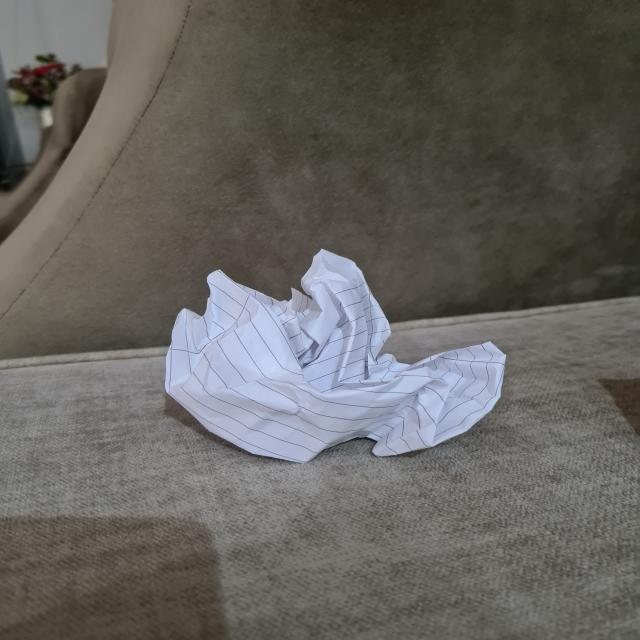Paper: (170, 248, 502, 458)
